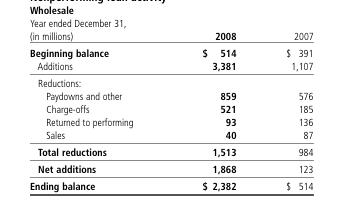table: (29, 29, 312, 191)
table column: (29, 29, 167, 191), (167, 29, 260, 191), (260, 29, 312, 191)
table column header: (29, 29, 312, 43)
table projected row header: (29, 73, 312, 88)
table row: (29, 159, 312, 176), (29, 143, 312, 159), (29, 43, 312, 58), (29, 58, 312, 73), (29, 73, 312, 88), (29, 128, 312, 143), (29, 176, 312, 191), (29, 29, 312, 43), (29, 114, 312, 128), (29, 88, 312, 101), (29, 101, 312, 114)
